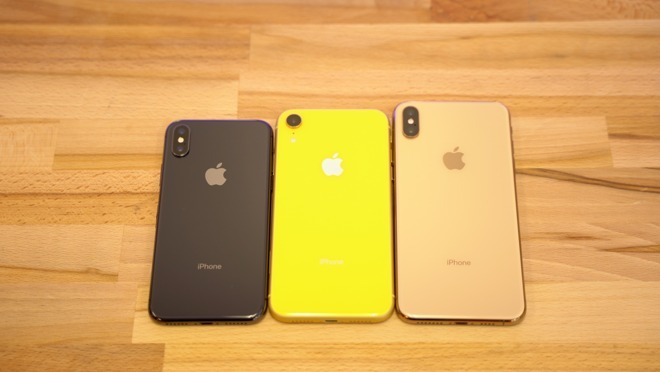apple: (435, 138, 469, 180), (198, 159, 233, 196), (317, 144, 346, 186)
